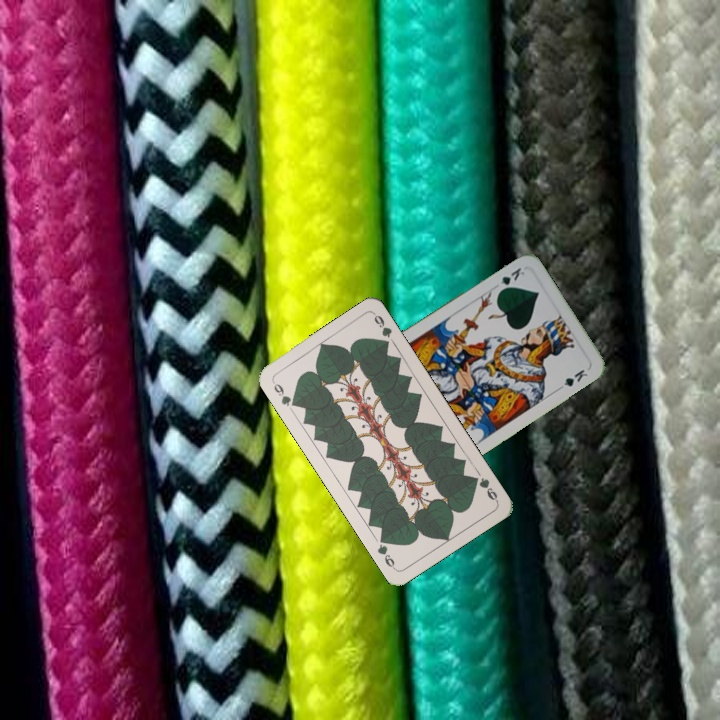G9: (268, 377, 300, 410), (468, 472, 500, 504)
GK: (494, 263, 527, 295)
